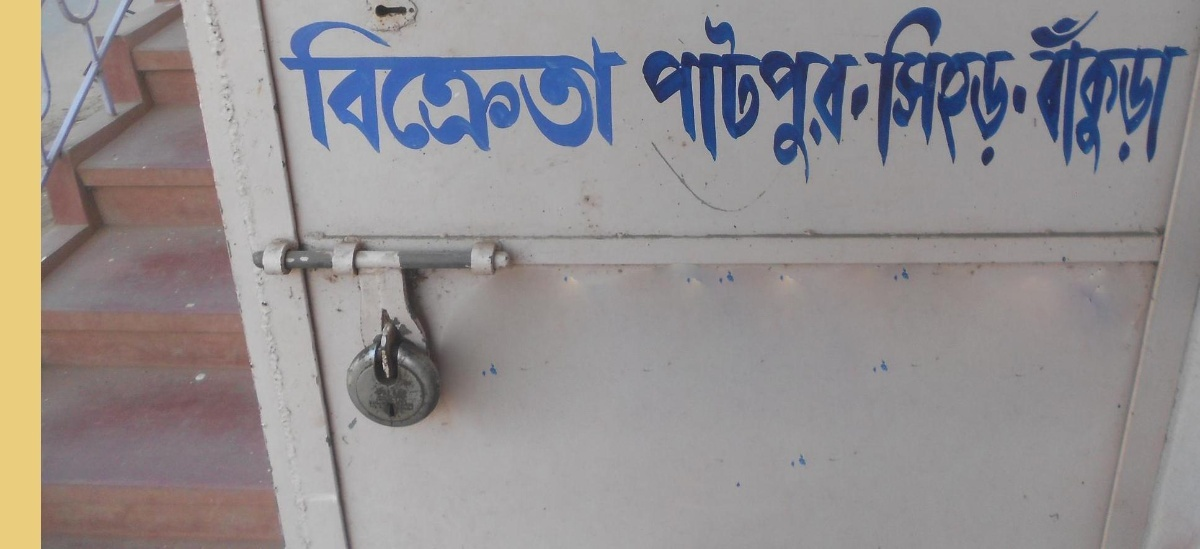text: (641, 14, 656, 184), (657, 14, 672, 184), (673, 14, 688, 184), (689, 14, 704, 184), (705, 14, 720, 184), (721, 14, 736, 184), (737, 14, 752, 184), (753, 14, 768, 184), (769, 14, 784, 184), (785, 14, 800, 184), (801, 14, 816, 184), (817, 14, 832, 184), (833, 14, 848, 184), (1041, 8, 1056, 176), (1057, 8, 1072, 176), (1073, 8, 1088, 176), (1089, 8, 1104, 176), (1105, 8, 1120, 176), (1121, 8, 1136, 176), (1137, 8, 1152, 176), (1153, 8, 1168, 176), (1169, 8, 1184, 176), (865, 5, 880, 167), (881, 5, 896, 167), (897, 5, 912, 167), (913, 5, 928, 167), (929, 5, 944, 167), (945, 5, 960, 167), (961, 5, 976, 167), (977, 5, 992, 167), (993, 5, 1008, 167), (849, 14, 863, 184), (289, 19, 304, 156), (305, 19, 320, 156), (321, 19, 336, 156), (337, 19, 352, 156), (353, 19, 368, 156), (369, 19, 384, 156), (385, 19, 400, 156), (401, 19, 416, 156), (417, 19, 432, 156), (433, 19, 448, 156), (449, 19, 464, 156), (465, 19, 480, 156), (481, 19, 496, 156), (497, 19, 512, 156), (513, 19, 528, 156), (529, 19, 544, 156), (545, 19, 560, 156), (561, 19, 576, 156), (577, 19, 592, 156), (593, 19, 608, 156), (609, 19, 624, 156), (1029, 8, 1040, 176), (278, 19, 288, 156), (1009, 5, 1016, 167), (1185, 8, 1191, 176), (625, 19, 628, 156), (863, 5, 864, 167)
